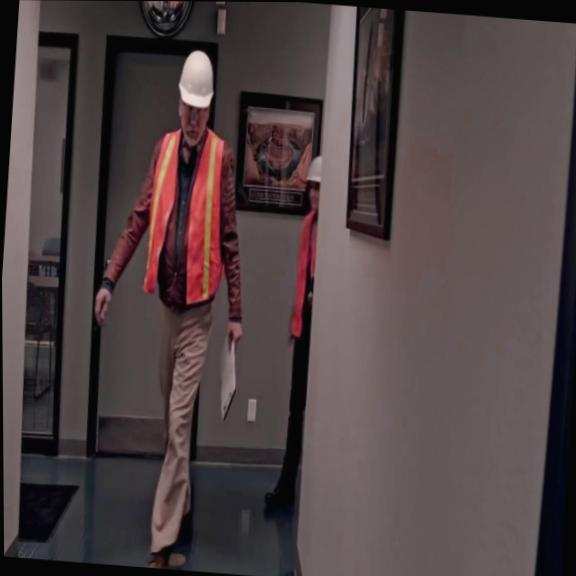safety_vest: (139, 122, 234, 307), (285, 205, 318, 342)
